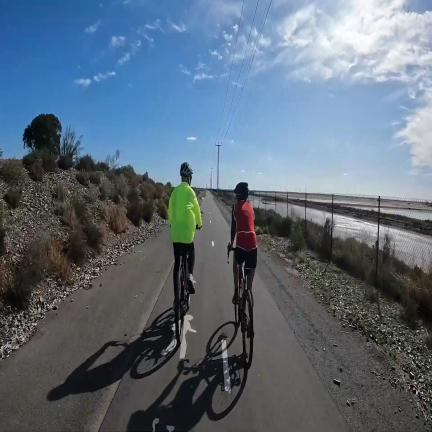Bike_Lane: (101, 194, 350, 432)
